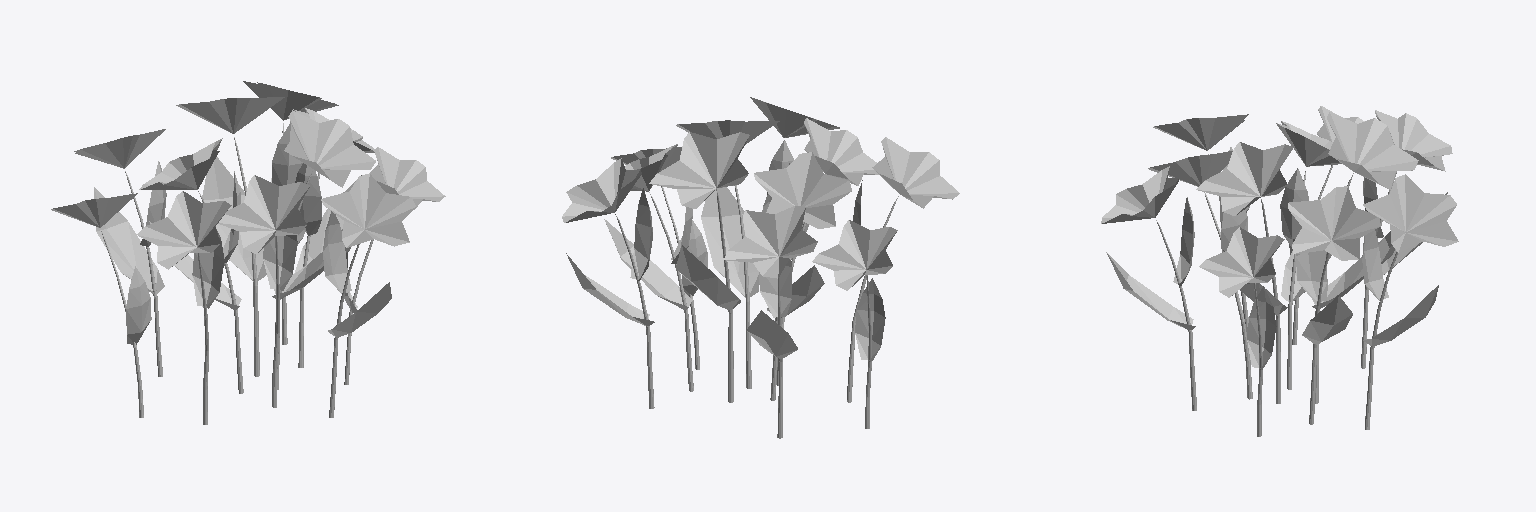
Rendered from Flower_1_Group.obj.
The picture shows the model from 3 angles: view 1: azimuth 30°, elevation 25°; view 2: azimuth 150°, elevation 25°; view 3: azimuth 270°, elevation 25°; orthographic projection.
Visible parts, largest first — view 1: Flower_1_Group; view 2: Flower_1_Group; view 3: Flower_1_Group.
Boxes of the visible parts, x1=… form: Flower_1_Group: x1=51, y1=81, x2=445, y2=424; Flower_1_Group: x1=562, y1=97, x2=959, y2=438; Flower_1_Group: x1=1101, y1=106, x2=1458, y2=436.
Size of the model in its own units: 1.83 by 1.5 by 1.72.